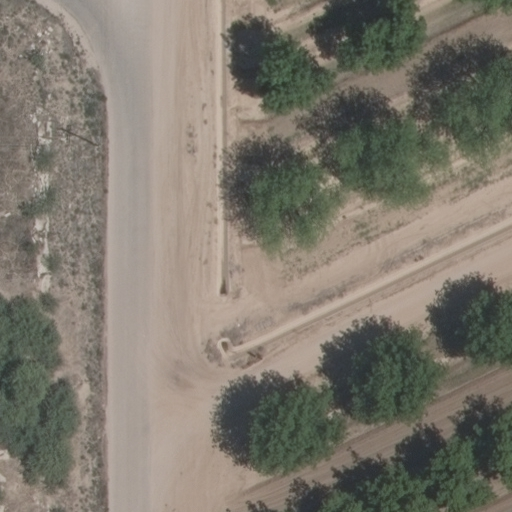DT: (90, 131, 109, 156)
